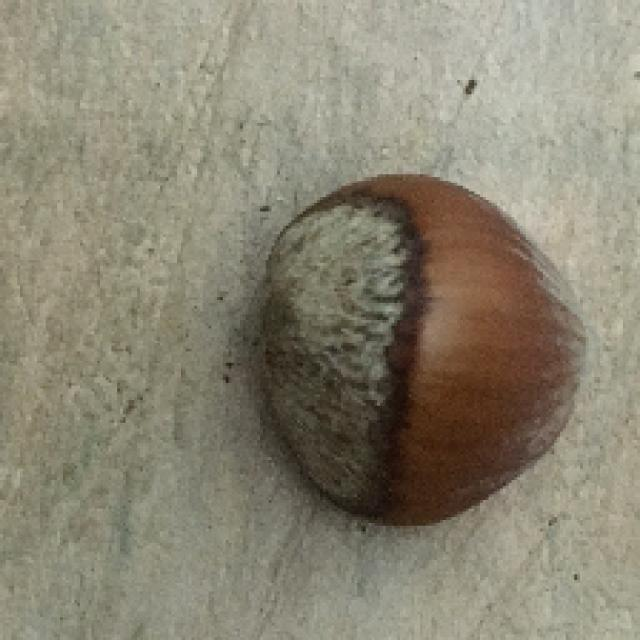damagedHazelnut: (235, 176, 595, 529)
